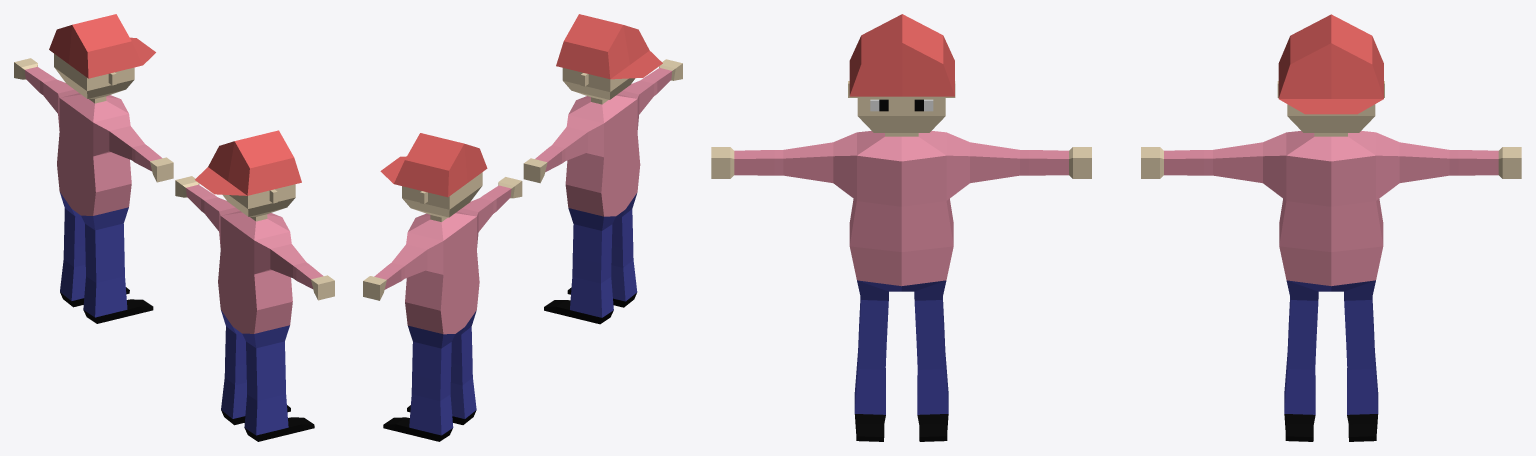
The model's file is Character.fbx.
The picture shows the model from 3 angles, left to right: view 1: azimuth 30°, elevation 25°; view 2: azimuth 150°, elevation 25°; view 3: azimuth 270°, elevation 25°; orthographic projection. The views are drawn at different scales.
Visible parts, largest first — view 1: Cube, Cube.002, Cube.003, Cube.001; view 2: Cube, Cube.002, Cube.003, Cube.001; view 3: Cube.002, Cube, Cube.001, Cube.003.
Part boxes in pixels (x1,y1,x2,y2): Cube: (14,53,173,323); Cube.002: (175,176,334,441); Cube.003: (195,130,301,195); Cube.001: (49,14,155,78); Cube: (363,172,522,441); Cube.002: (523,59,682,324); Cube.003: (556,14,662,79); Cube.001: (380,133,487,197); Cube.002: (711,81,1091,441); Cube: (1141,81,1521,441); Cube.001: (1278,14,1383,114); Cube.003: (849,14,954,96).
Size of the model in its own units: 70.63 by 190 by 361.
